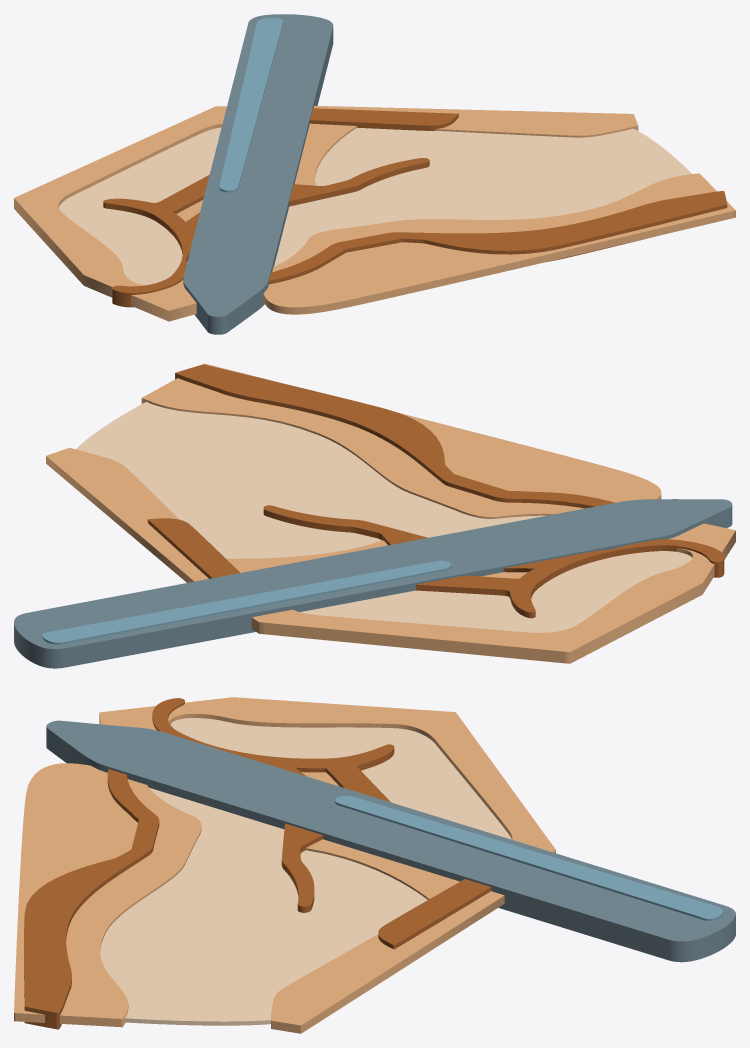
File: emoji_u270d_1f3fb.glb
3 views of the same model, one above another, from view 1: azimuth 30°, elevation 25°; view 2: azimuth 150°, elevation 25°; view 3: azimuth 270°, elevation 25° (orthographic). The views are drawn at different scales.
Parts seen in each view (by area): view 1: emoji_u270d_1f3fb; view 2: emoji_u270d_1f3fb; view 3: emoji_u270d_1f3fb.
Boxes of the visible parts, box(x1,y1,x2,y2) form: emoji_u270d_1f3fb: box(14, 14, 735, 334); emoji_u270d_1f3fb: box(14, 363, 735, 668); emoji_u270d_1f3fb: box(14, 697, 735, 1033).
Size of the model in its own units: 0.0338 by 0.0012 by 0.0316.
